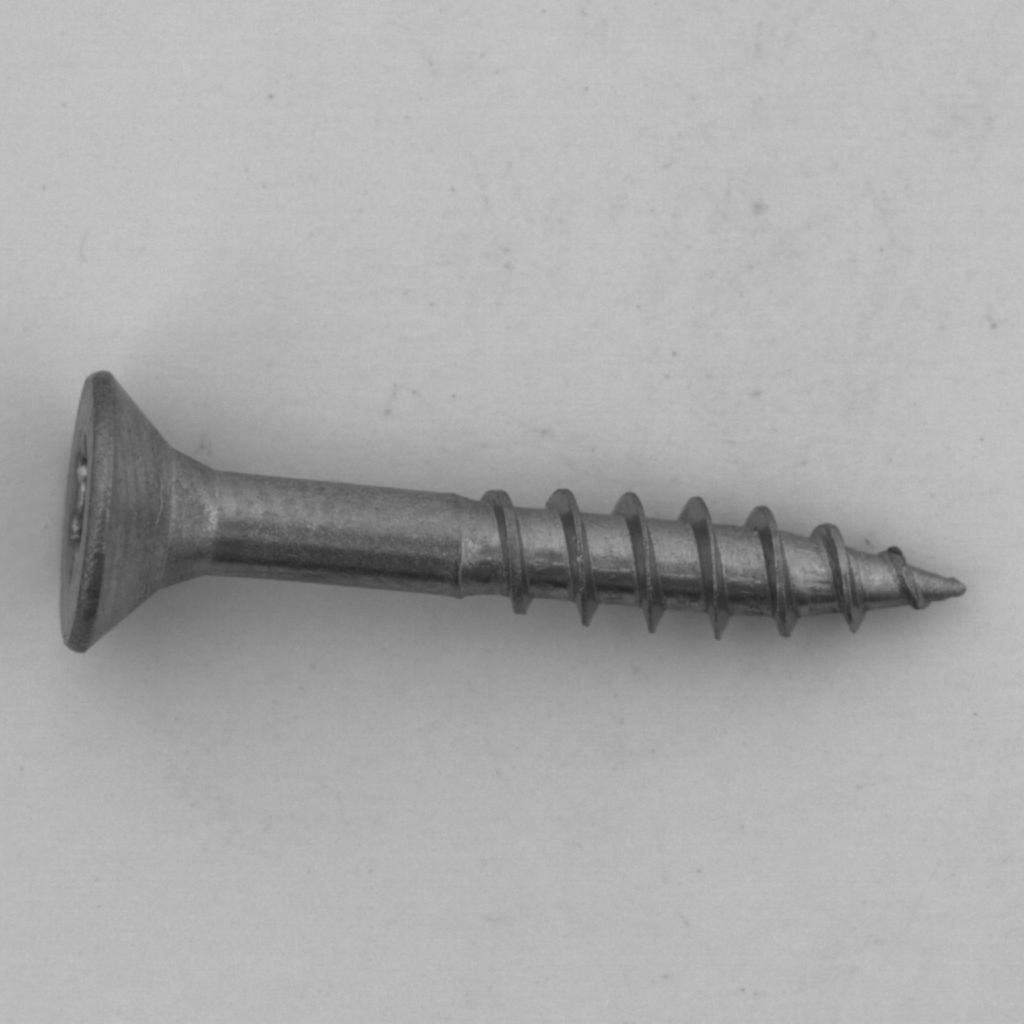good: (45, 351, 977, 683)
